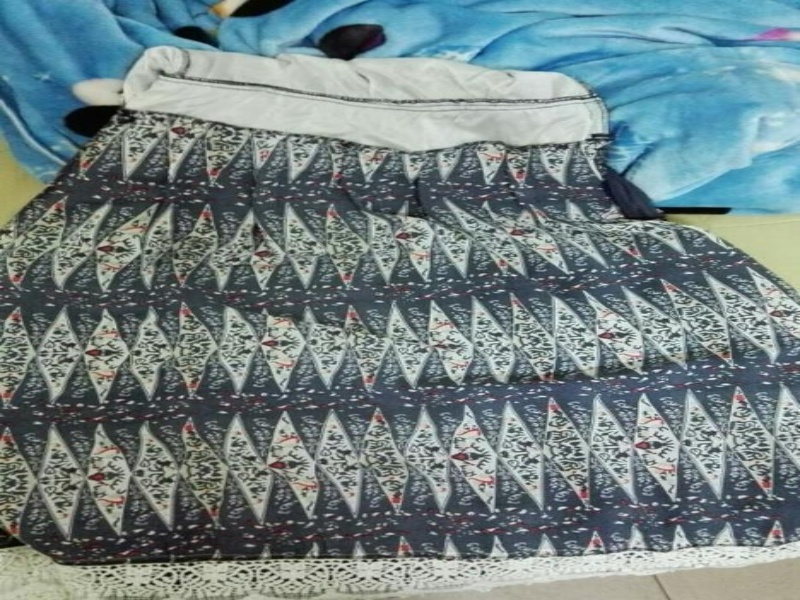vest_dress: (2, 45, 795, 599)
